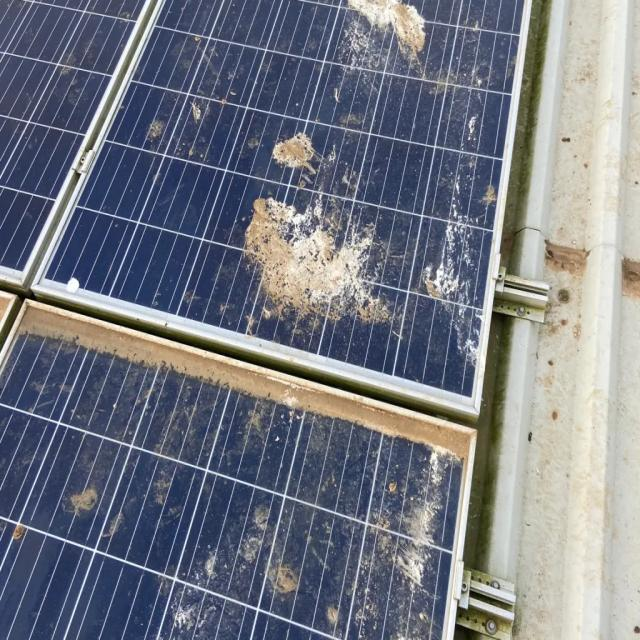dust-solar-panel: (0, 0, 534, 640)
